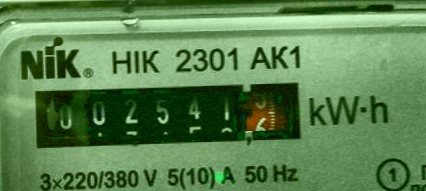0: (89, 96, 108, 129), (58, 103, 75, 132)
1: (217, 91, 233, 124)
2: (120, 94, 141, 129)
4: (186, 92, 203, 124)
5: (154, 96, 170, 128)
6: (252, 114, 268, 135)
screen: (20, 69, 322, 165)
